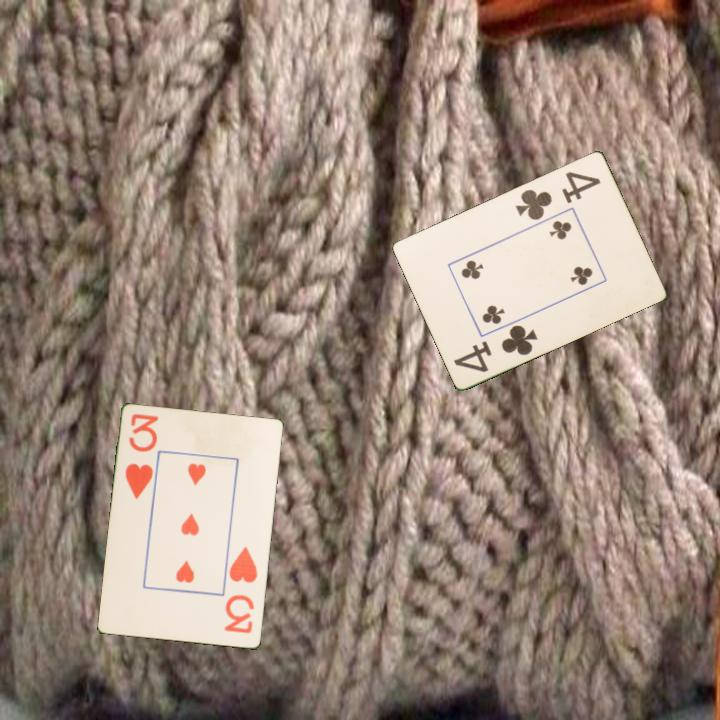3h: (221, 544, 261, 637), (122, 410, 161, 502)
4c: (512, 167, 604, 223), (450, 321, 541, 375)
